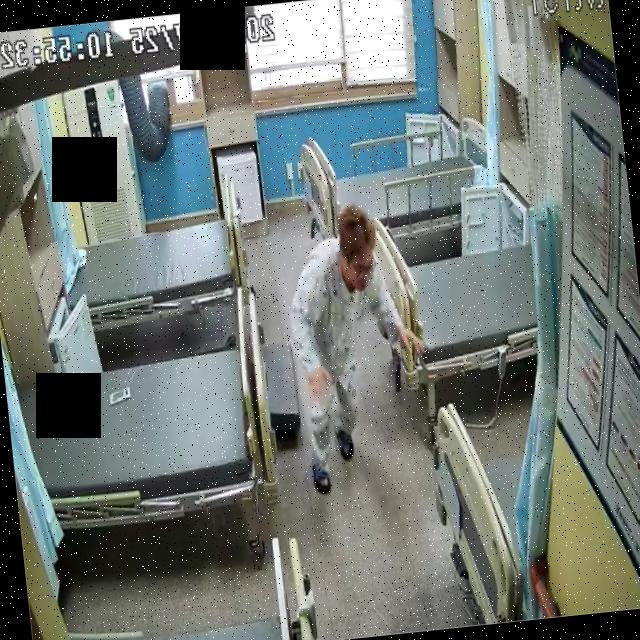bed: (11, 335, 262, 533), (356, 200, 546, 394), (300, 115, 497, 255), (58, 192, 250, 331)
danger: (279, 200, 428, 496)
patient: (279, 202, 428, 496)
